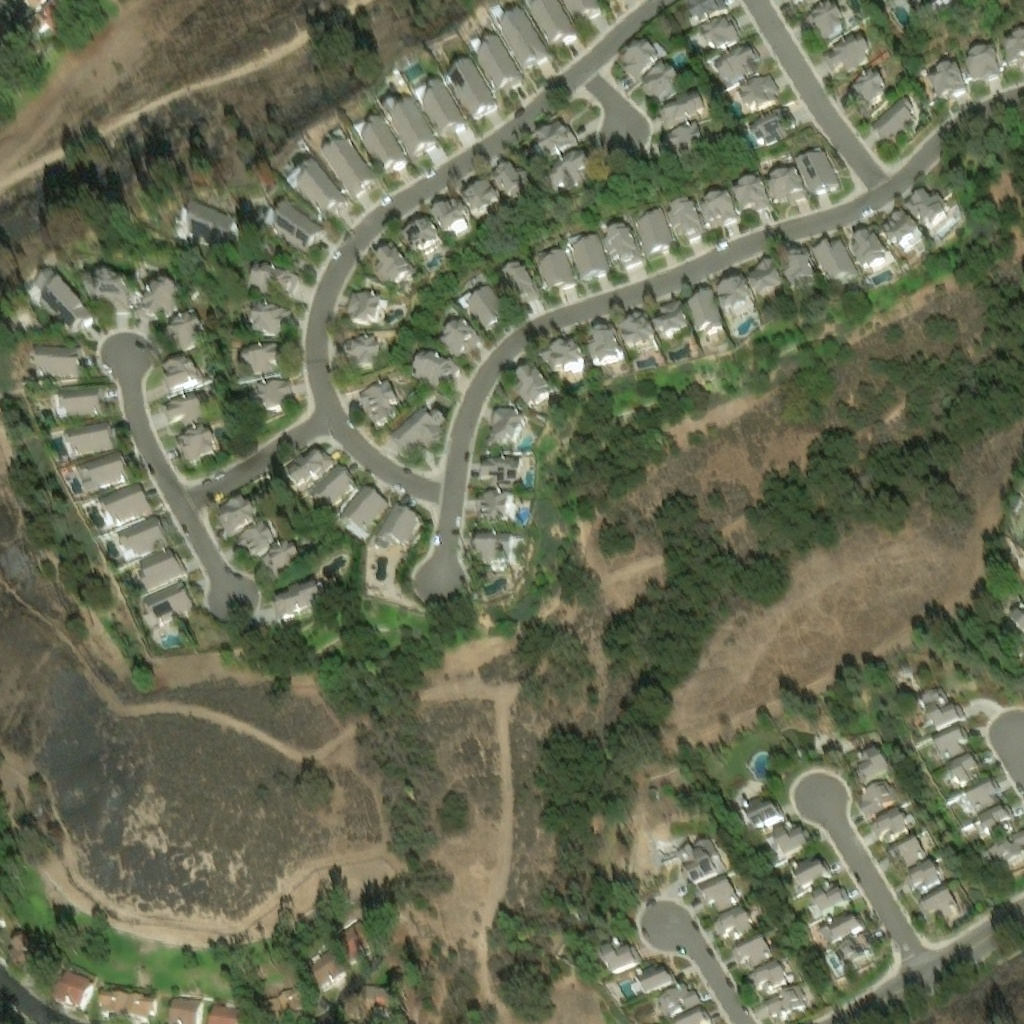0 no-damage: (489, 1, 549, 62), (27, 267, 91, 324), (382, 87, 438, 149), (284, 154, 345, 209), (321, 125, 374, 188), (260, 190, 322, 242), (411, 69, 465, 127), (442, 52, 496, 108), (454, 277, 508, 331), (342, 487, 390, 547), (468, 28, 521, 82), (389, 403, 447, 452), (660, 830, 720, 877), (141, 578, 195, 629), (793, 137, 842, 193), (171, 195, 238, 235), (853, 224, 898, 282), (357, 111, 405, 163), (75, 450, 129, 496), (900, 185, 952, 232), (376, 504, 423, 556), (466, 534, 524, 576), (285, 448, 335, 496), (807, 906, 862, 949), (869, 91, 919, 138), (117, 514, 164, 564), (510, 370, 561, 416), (100, 481, 152, 526), (632, 203, 676, 256), (832, 929, 885, 972), (567, 227, 610, 279), (357, 373, 398, 427), (816, 239, 862, 287), (686, 285, 728, 337), (529, 110, 576, 156), (370, 232, 416, 279), (877, 206, 923, 253), (310, 465, 357, 511), (534, 240, 578, 289), (140, 546, 186, 592), (601, 219, 645, 267), (411, 345, 459, 389), (216, 490, 261, 536), (707, 36, 754, 80), (543, 344, 590, 388), (274, 585, 327, 624), (747, 97, 795, 140), (60, 418, 114, 456), (159, 292, 200, 342), (764, 813, 813, 854), (780, 251, 821, 300), (129, 264, 173, 309), (666, 194, 708, 241), (472, 457, 525, 494), (239, 252, 295, 287), (617, 311, 661, 355), (618, 28, 663, 71), (850, 770, 897, 811), (761, 978, 809, 1018), (819, 25, 867, 65), (33, 339, 81, 379), (694, 1, 738, 44), (439, 314, 483, 357), (635, 52, 677, 97), (748, 263, 790, 308), (500, 257, 541, 303), (588, 323, 625, 373), (488, 154, 531, 197), (158, 345, 202, 386), (659, 88, 703, 128), (428, 188, 468, 232), (918, 885, 961, 925), (158, 384, 207, 419), (460, 171, 498, 216), (656, 982, 702, 1019), (700, 188, 741, 229), (261, 542, 302, 583), (734, 65, 776, 105), (767, 166, 809, 206), (731, 174, 773, 214), (490, 409, 529, 452), (260, 981, 304, 1019), (243, 292, 287, 330), (310, 944, 348, 988), (988, 834, 1023, 881), (549, 146, 590, 186), (349, 986, 393, 1023), (786, 850, 832, 885), (652, 299, 692, 339), (902, 854, 943, 893), (709, 897, 752, 934), (738, 791, 783, 826), (236, 520, 276, 559), (869, 799, 912, 835), (344, 282, 387, 318), (253, 372, 296, 408), (806, 880, 850, 915), (846, 61, 885, 100), (694, 866, 734, 904), (929, 60, 969, 98), (399, 209, 437, 249), (965, 43, 1002, 84), (960, 777, 1002, 813), (628, 961, 672, 995), (53, 383, 101, 414), (526, 0, 571, 33), (930, 718, 967, 758), (745, 954, 786, 990), (851, 738, 887, 778), (799, 0, 842, 33), (730, 925, 768, 962), (339, 921, 375, 960), (885, 828, 925, 863), (173, 419, 213, 454), (477, 494, 517, 529), (239, 335, 281, 368), (946, 750, 984, 786), (54, 966, 88, 1005), (665, 121, 704, 155), (7, 927, 38, 968), (718, 281, 753, 317), (601, 943, 642, 973), (340, 331, 378, 363), (924, 695, 962, 727), (80, 264, 122, 292), (976, 805, 1011, 837), (166, 991, 200, 1023), (19, 0, 67, 21), (96, 985, 128, 1016), (910, 0, 958, 20), (47, 9, 74, 41), (128, 989, 156, 1018), (207, 997, 237, 1023), (918, 679, 949, 704), (675, 1004, 713, 1023), (1005, 34, 1023, 73), (0, 34, 15, 67), (687, 0, 716, 13), (1008, 606, 1023, 631), (565, 0, 599, 9), (0, 886, 6, 904)
